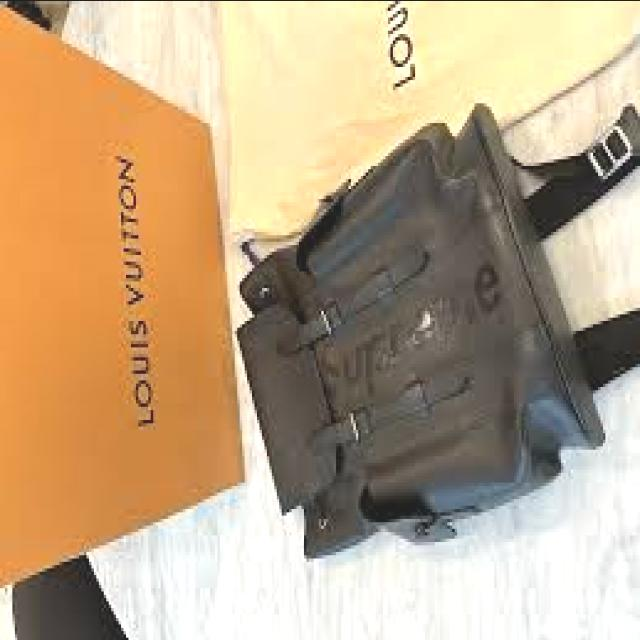backpack: (230, 88, 640, 579)
